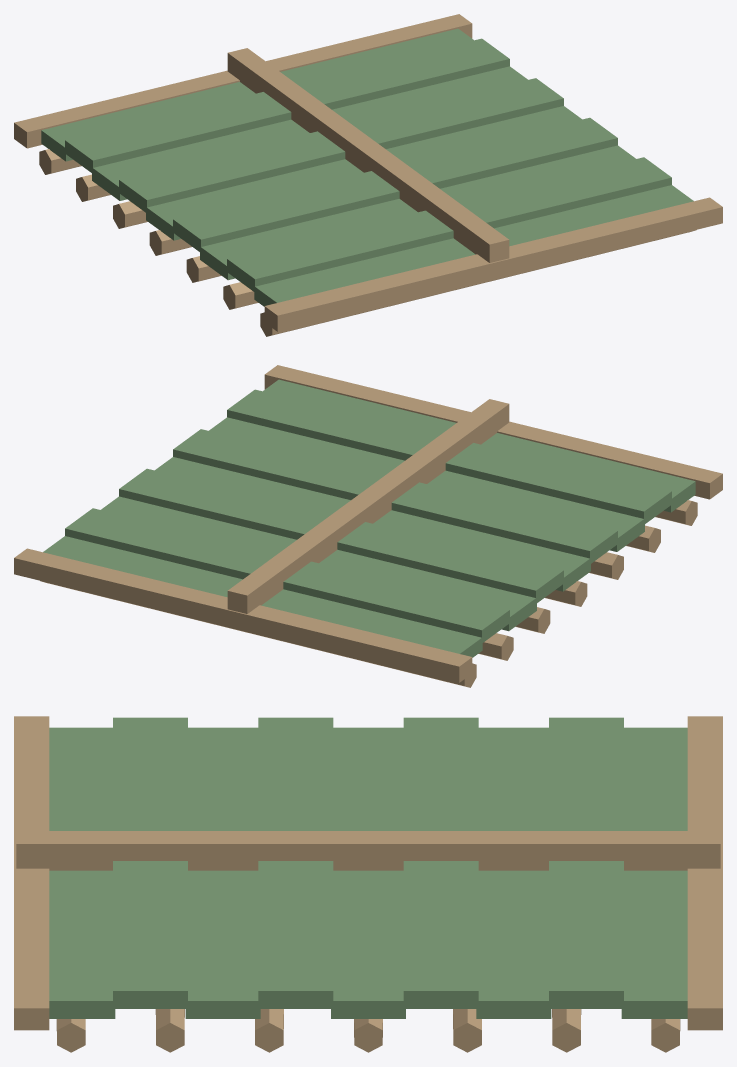
Rendered from wipe-day-survival-island-twig-roof-3be2d80b__27497.glb.
3 renders of one model, top to bottom at view 1: azimuth 30°, elevation 25°; view 2: azimuth 150°, elevation 25°; view 3: azimuth 270°, elevation 25°, orthographic. The views are drawn at different scales.
Parts seen in each view (by area): view 1: twig-roof; view 2: twig-roof; view 3: twig-roof.
Boxes of the visible parts, x1=… form: twig-roof: x1=14, y1=14, x2=722, y2=336; twig-roof: x1=14, y1=365, x2=722, y2=687; twig-roof: x1=14, y1=716, x2=722, y2=1052.
Size of the model in its own units: 3.14 by 0.3899 by 3.22.
